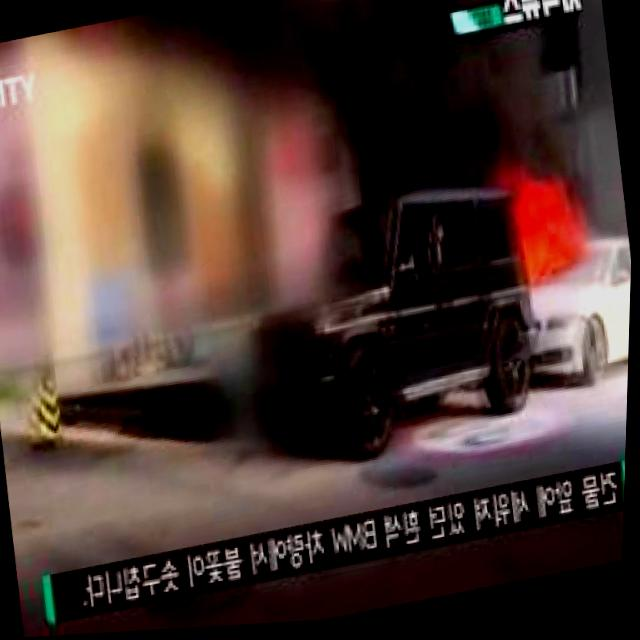helmet: (513, 210, 572, 287)
